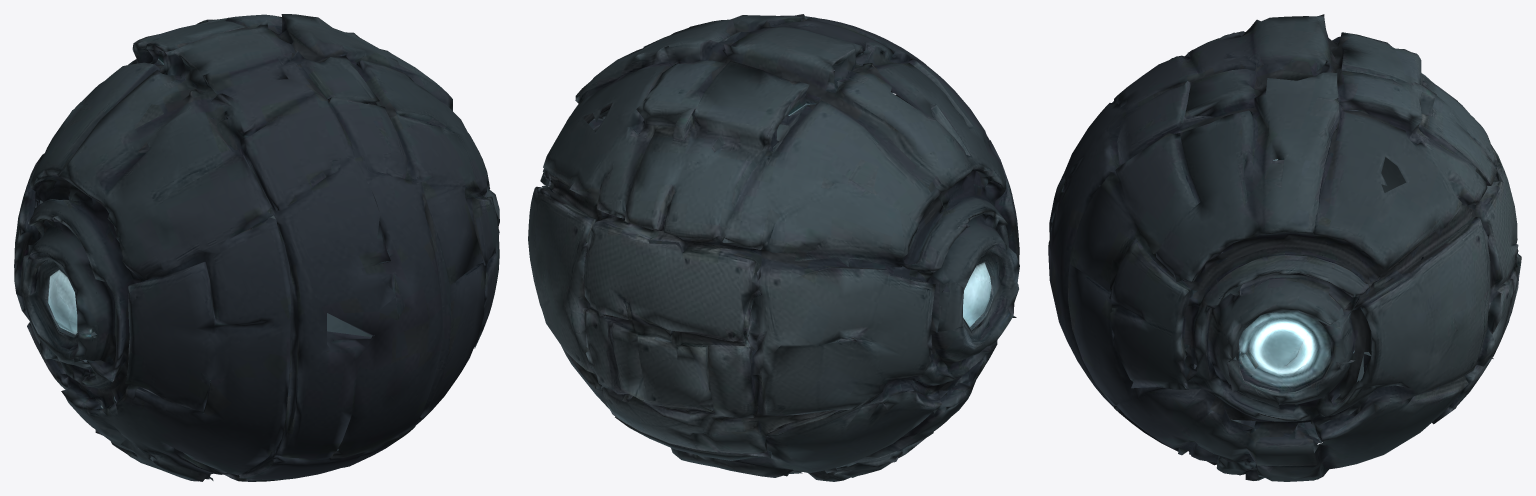
File: drony.glb
3 renders of one model, left to right at view 1: azimuth 30°, elevation 25°; view 2: azimuth 150°, elevation 25°; view 3: azimuth 270°, elevation 25°, orthographic. The views are drawn at different scales.
Parts seen in each view (by area): view 1: drony2-master; view 2: drony2-master; view 3: drony2-master.
Part boxes in pixels (x1,y1,x2,y2): drony2-master: (14,14,499,481); drony2-master: (528,14,1019,481); drony2-master: (1048,14,1521,481).
Bounding box in the file's own units: 1.7 × 1.64 × 1.68.
Materials: 1 (1 with a texture image).
